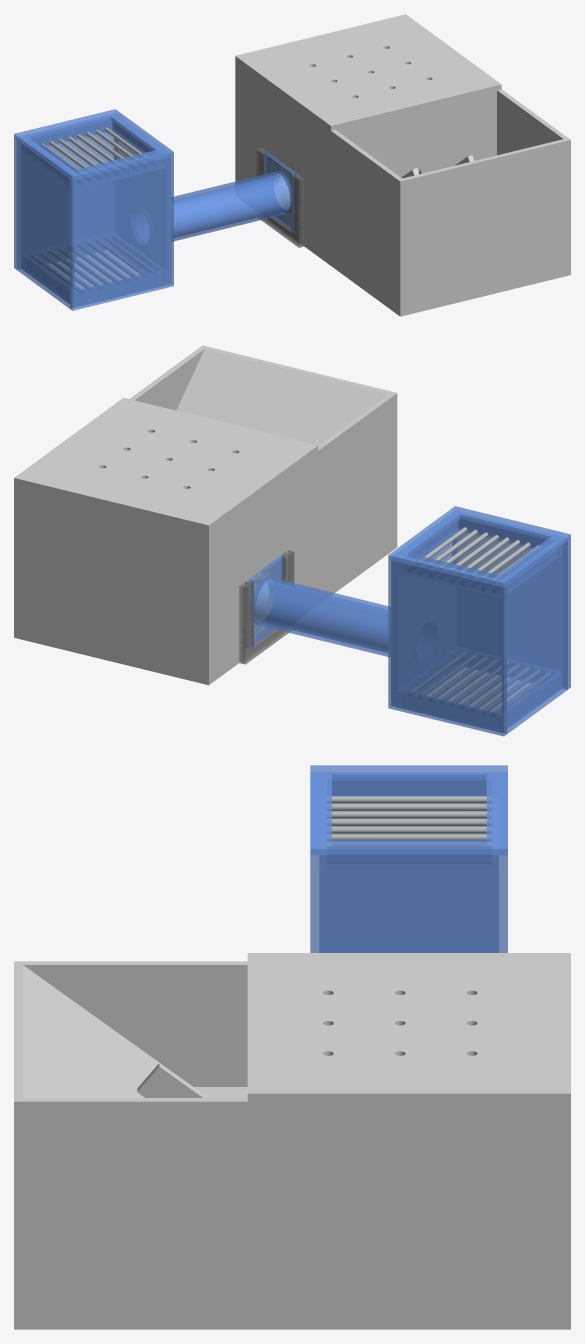
File: arenaModel.fbx
3 renders of one model, top to bottom at view 1: azimuth 30°, elevation 25°; view 2: azimuth 150°, elevation 25°; view 3: azimuth 270°, elevation 25°, orthographic. The views are drawn at different scales.
Visible parts, largest first — view 1: Group2, Group5, Group44, Group17, Group16, Group9, Group18, Group13, Group20, Group43, Group42, Group19 (+5 smaller); view 2: Group3, Group5, Group44, Group16, Group6, Group17, Group18, Group13, Group20, Group43, Group42, Group19 (+5 smaller); view 3: Group4, Group44, Group20, Group18, Group5, Group6, Group43, Group42, Group1, Group2, Group3, Group17 (+9 smaller).
Part boxes in pixels (x1,y1,x2,y2): Group2: (397,138,570,311); Group5: (238,63,401,309); Group44: (235,14,501,130); Group17: (70,154,173,310); Group16: (14,113,117,269); Group9: (336,90,496,177); Group18: (16,139,74,308); Group13: (136,171,290,242); Group20: (113,115,170,284); Group43: (14,109,173,180); Group42: (21,116,166,189); Group19: (21,233,166,306); Group3: (14,483,211,679); Group5: (212,394,394,677); Group44: (14,398,318,530); Group16: (388,557,506,736); Group6: (176,349,388,445); Group17: (452,511,570,689); Group18: (502,540,567,733); Group13: (254,577,431,658); Group20: (391,513,457,706); Group43: (388,506,570,587); Group42: (397,514,562,597); Group19: (397,652,561,732); Group4: (23,1098,561,1321); Group44: (247,953,570,1101); Group20: (319,852,498,952); Group18: (319,772,498,952); Group5: (23,961,247,1086); Group6: (23,965,192,1097); Group43: (310,765,507,855); Group42: (319,776,498,872); Group1: (14,1321,570,1329); Group2: (14,961,22,1321); Group3: (562,1101,570,1321); Group17: (310,772,319,952).
Bounding box in the file's own units: 445 × 145 × 310.
